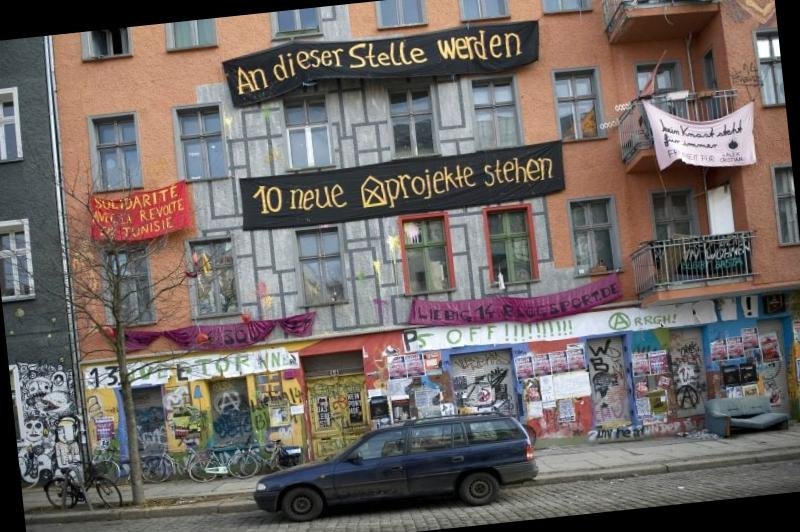graffiti: (404, 313, 600, 352), (18, 364, 78, 480), (306, 374, 369, 456), (587, 339, 629, 428), (669, 331, 706, 413), (251, 391, 301, 445), (210, 380, 250, 444), (606, 306, 679, 331), (134, 406, 165, 455), (726, 0, 776, 30), (759, 358, 787, 406), (450, 351, 509, 372), (86, 393, 107, 418)
